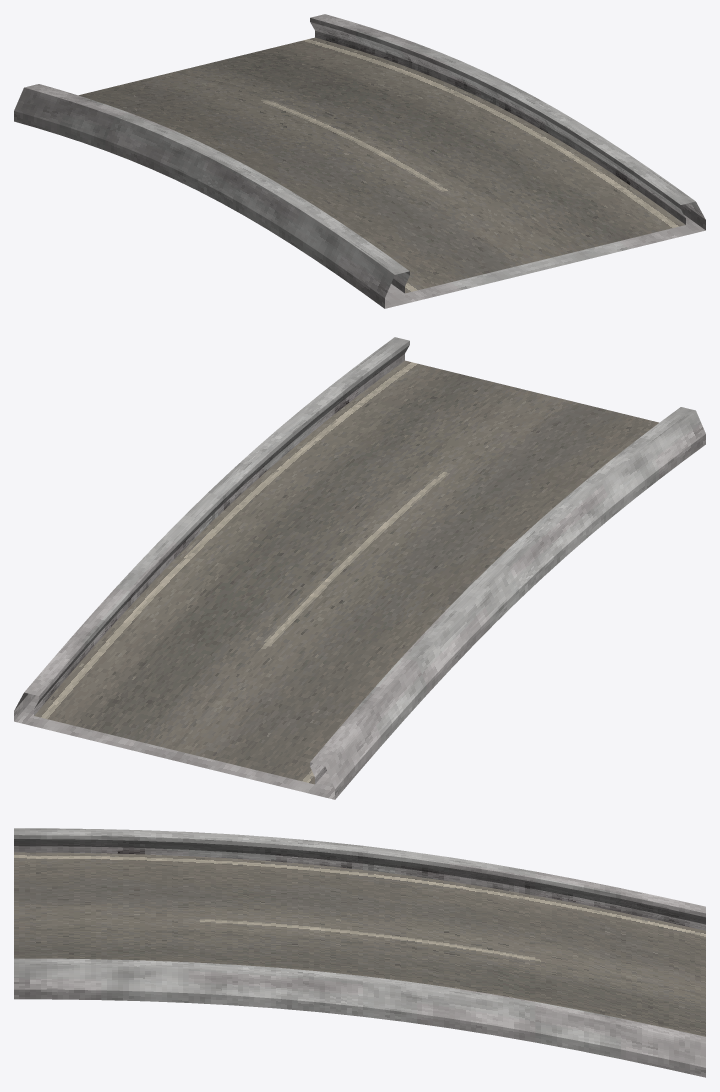
Rendered from straight2.glb.
The picture shows the model from 3 angles, top to bottom: view 1: azimuth 30°, elevation 25°; view 2: azimuth 150°, elevation 25°; view 3: azimuth 270°, elevation 25°; orthographic projection. The views are drawn at different scales.
Parts seen in each view (by area): view 1: road-Straight-Flat-BiSlopeDown-Down1-Center-Size2; view 2: road-Straight-Flat-BiSlopeDown-Down1-Center-Size2; view 3: road-Straight-Flat-BiSlopeDown-Down1-Center-Size2.
Boxes of the visible parts, x1,y1,x2,y2 form: road-Straight-Flat-BiSlopeDown-Down1-Center-Size2: (14,14,705,308); road-Straight-Flat-BiSlopeDown-Down1-Center-Size2: (14,337,705,799); road-Straight-Flat-BiSlopeDown-Down1-Center-Size2: (14,828,705,1077).
Size of the model in its own units: 1 by 0.3438 by 2.
2 materials, 2 textured.
